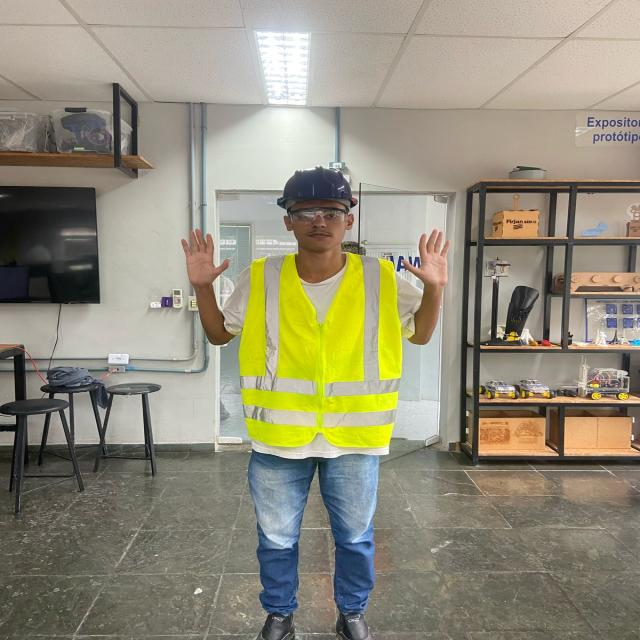BOTA: (253, 601, 307, 640), (332, 608, 388, 640)
CAPACETE: (281, 165, 363, 212)
COLETE: (247, 250, 412, 453)
OCULOS: (288, 205, 352, 230)
SEM LUVA: (174, 225, 239, 285), (399, 228, 455, 288)
